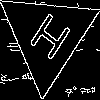H: (22, 11, 73, 70)
